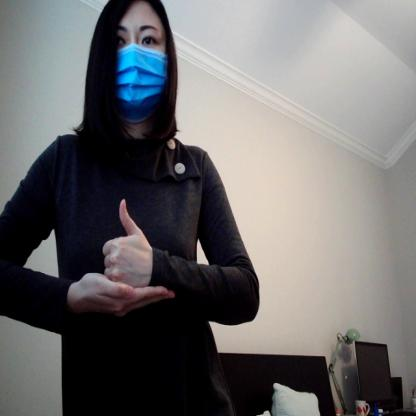help: (63, 198, 185, 316)
